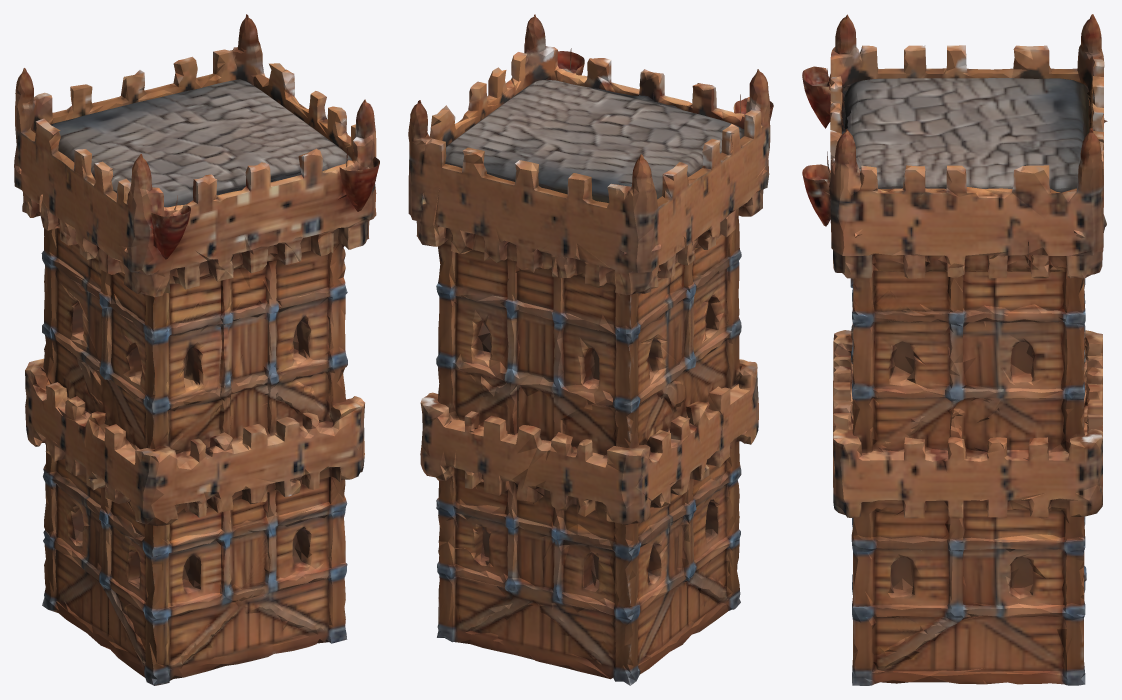
File: tower_arrow.glb
The picture shows the model from 3 angles, left to right: view 1: azimuth 30°, elevation 25°; view 2: azimuth 150°, elevation 25°; view 3: azimuth 270°, elevation 25°; orthographic projection. The views are drawn at different scales.
Visible parts, largest first — view 1: tower_arrow; view 2: tower_arrow; view 3: tower_arrow.
Part boxes in pixels (x1,y1,x2,y2): tower_arrow: (14, 14, 379, 685); tower_arrow: (408, 14, 773, 685); tower_arrow: (802, 14, 1107, 685).
Bounding box in the file's own units: 0.9366 × 1.9 × 0.9332.
1 material, 1 textured.
